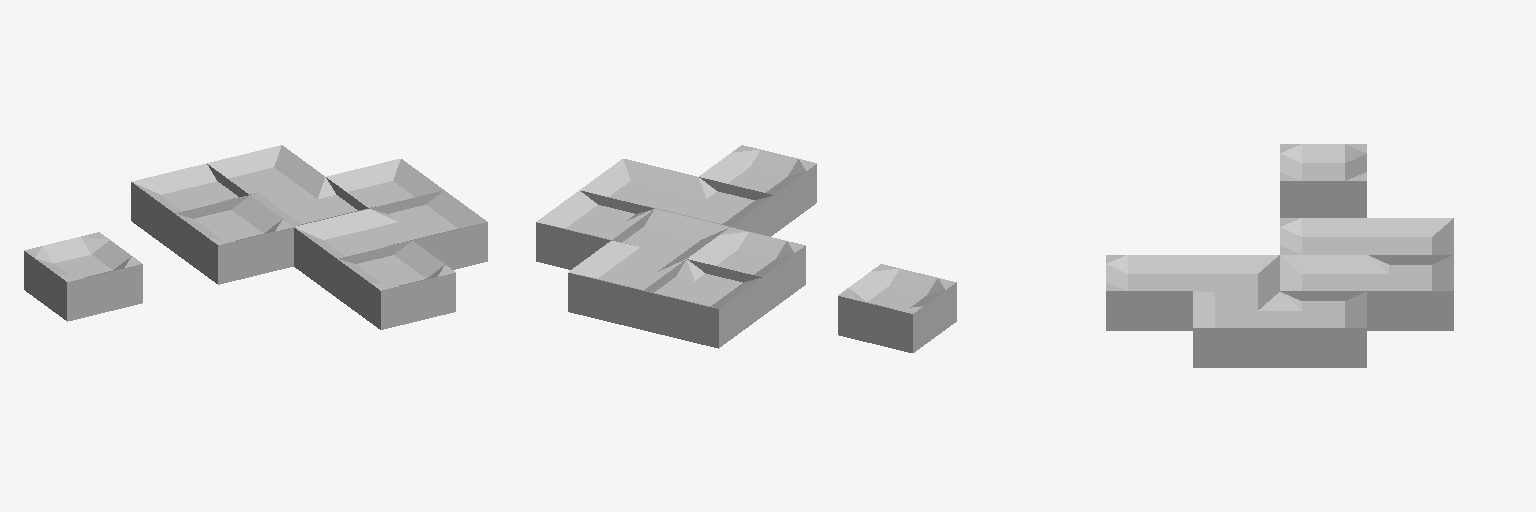
Rendered from 60s_path.obj.
The picture shows the model from 3 angles: view 1: azimuth 30°, elevation 25°; view 2: azimuth 150°, elevation 25°; view 3: azimuth 270°, elevation 25°; orthographic projection.
Parts seen in each view (by area): view 1: hole.0.3_Cube.270, ending.2.3_ending.537, ending.3.1_ending.538, corner.4.2_corner.1330, corner.2.4_corner.1326, corner.3.2_corner.1327, corner.3.4_corner.1329, corner.4.3_corner.1331, corner.3.3_corner.1328; view 2: hole.0.3_Cube.270, corner.2.4_corner.1326, corner.3.4_corner.1329, corner.4.3_corner.1331, ending.2.3_ending.537, ending.3.1_ending.538, corner.4.2_corner.1330, corner.3.2_corner.1327, corner.3.3_corner.1328; view 3: ending.3.1_ending.538, corner.3.4_corner.1329, hole.0.3_Cube.270, corner.4.3_corner.1331, corner.4.2_corner.1330, corner.3.2_corner.1327, corner.3.3_corner.1328, ending.2.3_ending.537, corner.2.4_corner.1326.
Part boxes in pixels (bbox=[...]): hole.0.3_Cube.270: bbox=[24, 232, 142, 321]; ending.2.3_ending.537: bbox=[175, 195, 293, 284]; ending.3.1_ending.538: bbox=[337, 241, 455, 329]; corner.4.2_corner.1330: bbox=[370, 190, 487, 269]; corner.2.4_corner.1326: bbox=[131, 163, 249, 252]; corner.3.2_corner.1327: bbox=[294, 209, 410, 297]; corner.3.4_corner.1329: bbox=[207, 145, 324, 199]; corner.4.3_corner.1331: bbox=[327, 159, 443, 209]; corner.3.3_corner.1328: bbox=[252, 177, 368, 226]; hole.0.3_Cube.270: bbox=[838, 264, 956, 352]; corner.2.4_corner.1326: bbox=[643, 259, 761, 348]; corner.3.4_corner.1329: bbox=[568, 241, 685, 329]; corner.4.3_corner.1331: bbox=[536, 190, 653, 269]; ending.2.3_ending.537: bbox=[687, 227, 805, 316]; ending.3.1_ending.538: bbox=[699, 145, 816, 233]; corner.4.2_corner.1330: bbox=[580, 159, 697, 213]; corner.3.2_corner.1327: bbox=[658, 177, 773, 236]; corner.3.3_corner.1328: bbox=[613, 209, 729, 263]; ending.3.1_ending.538: bbox=[1106, 255, 1192, 330]; corner.3.4_corner.1329: bbox=[1367, 255, 1453, 330]; hole.0.3_Cube.270: bbox=[1280, 144, 1366, 217]; corner.4.3_corner.1331: bbox=[1280, 291, 1366, 367]; corner.4.2_corner.1330: bbox=[1193, 292, 1279, 367]; corner.3.2_corner.1327: bbox=[1193, 255, 1279, 300]; corner.3.3_corner.1328: bbox=[1280, 255, 1366, 300]; ending.2.3_ending.537: bbox=[1280, 218, 1366, 254]; corner.2.4_corner.1326: bbox=[1367, 218, 1453, 254].
Bounding box in the file's own units: 10 × 1 × 8.